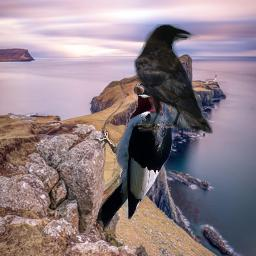Crow: (134, 24, 213, 136)
Woodpecker: (89, 72, 174, 239)
